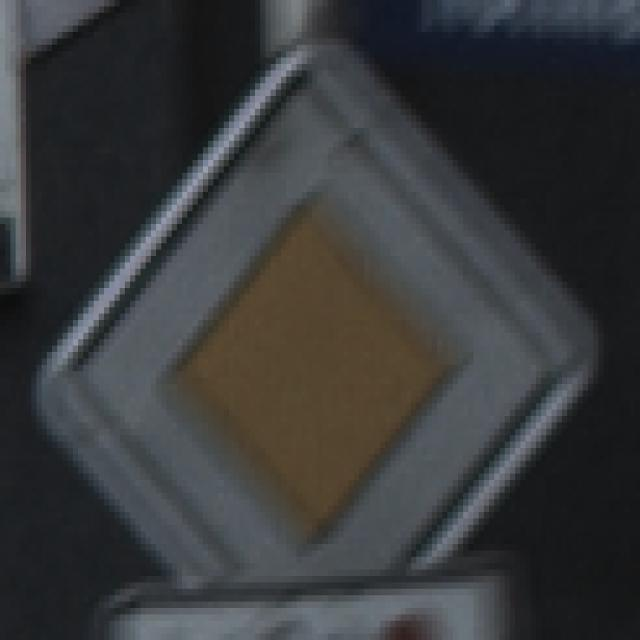Main Road: (53, 52, 589, 590)
